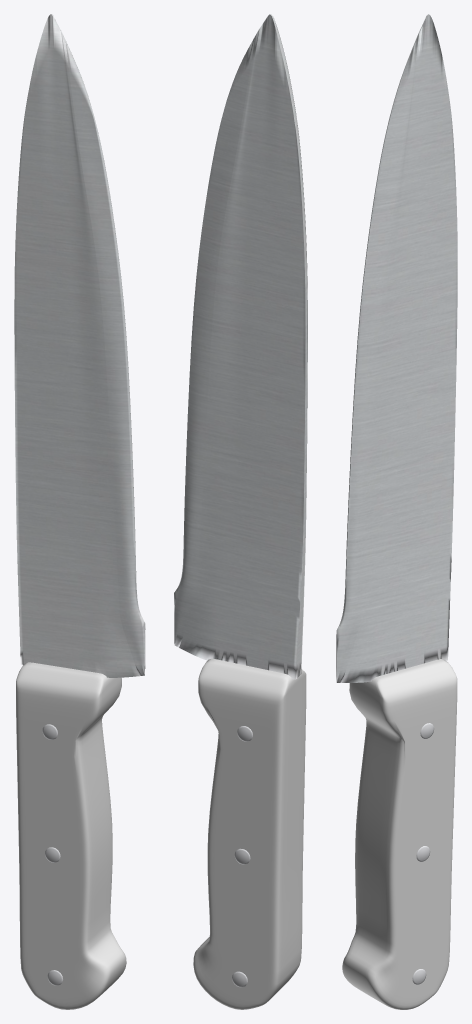
Rendered from coltello.fbx.
The picture shows the model from 3 angles, left to right: view 1: azimuth 30°, elevation 25°; view 2: azimuth 210°, elevation 25°; view 3: azimuth 270°, elevation 25°; orthographic projection. The views are drawn at different scales.
Visible parts, largest first — view 1: Chef Knife; view 2: Chef Knife; view 3: Chef Knife.
Boxes of the visible parts, left/top/right/bottom form: Chef Knife: left=14, top=14, right=145, bottom=1009; Chef Knife: left=174, top=14, right=307, bottom=1009; Chef Knife: left=336, top=14, right=457, bottom=1009.
Size of the model in its own units: 2.63 by 27.93 by 3.13.
Materials: 3 (2 with a texture image).
